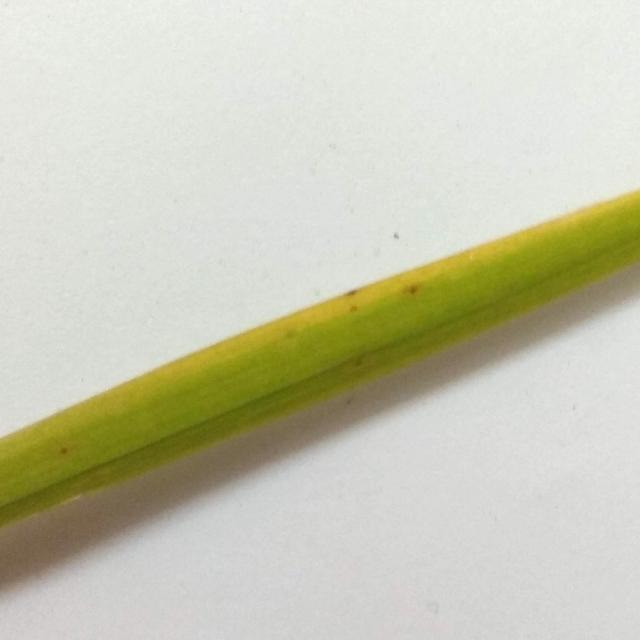Brown spot: (0, 162, 640, 552)
